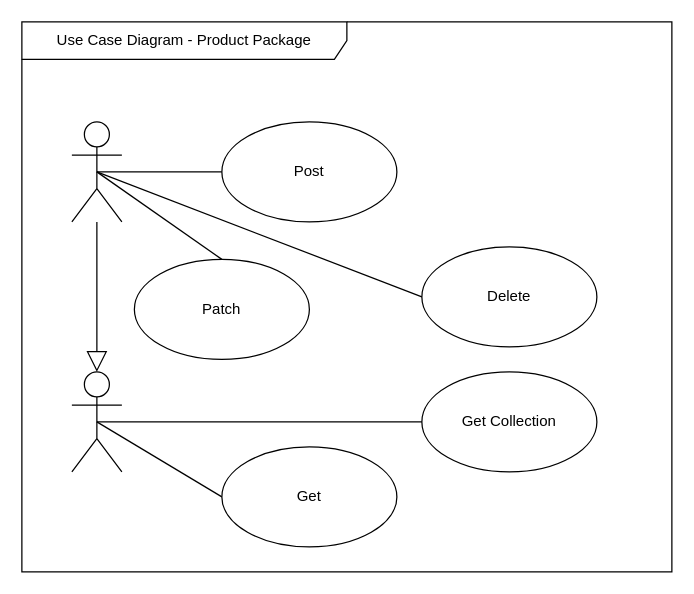
Image size: 694x594. Some labels were removed from this diagram. The shapes that lost their labels are listed below. From the top down, each one's box as (x1, y1, x2, y2) in pixels, then its label:
(71, 121, 122, 222): Admin
(71, 371, 122, 472): Client
